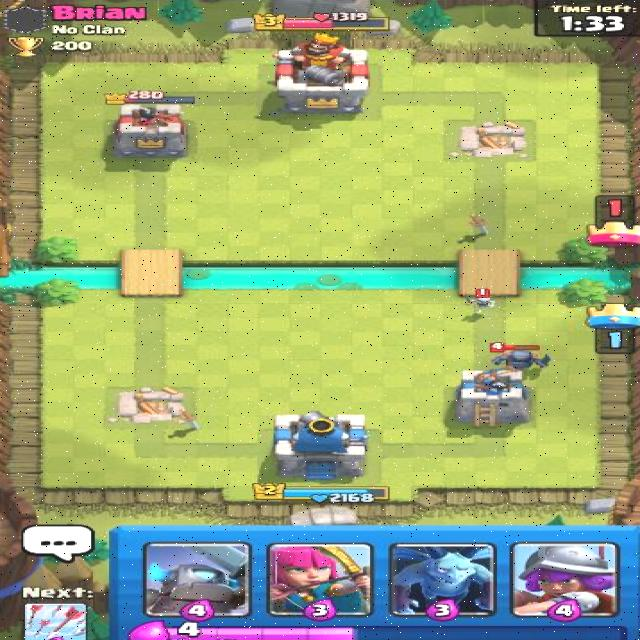Enemy-MiniPEKKA: (487, 341, 552, 374)
Enemy-Skeleton: (460, 286, 502, 316)
